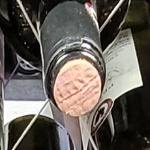bottle: (40, 34, 115, 125)
